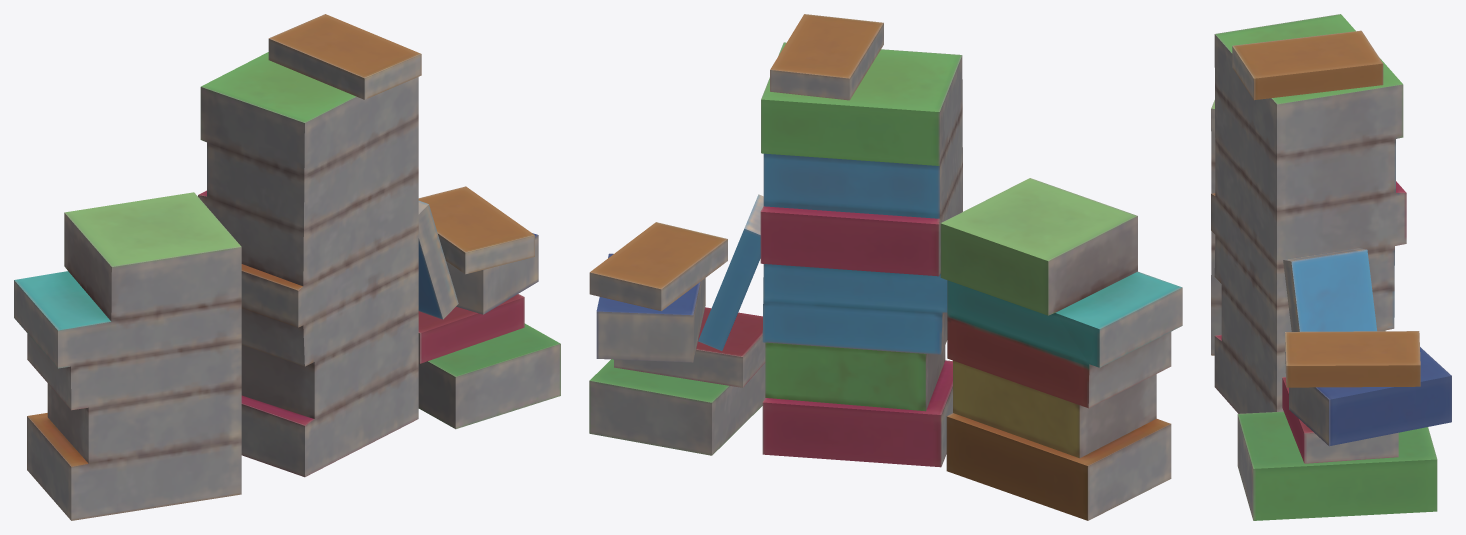
Rendered from Pfb_Indoors_Books__3.fbx.
The picture shows the model from 3 angles, left to right: view 1: azimuth 30°, elevation 25°; view 2: azimuth 150°, elevation 25°; view 3: azimuth 270°, elevation 25°; orthographic projection.
Visible parts, largest first — view 1: Mat_Indoors_Books_01; view 2: Mat_Indoors_Books_01; view 3: Mat_Indoors_Books_01.
Part boxes in pixels (x1=…): Mat_Indoors_Books_01: x1=14, y1=14, x2=560, y2=520; Mat_Indoors_Books_01: x1=589, y1=14, x2=1182, y2=520; Mat_Indoors_Books_01: x1=1211, y1=14, x2=1451, y2=520.
Size of the model in its own units: 1.49 by 1.02 by 0.5964.
Materials: 1 (1 with a texture image).
